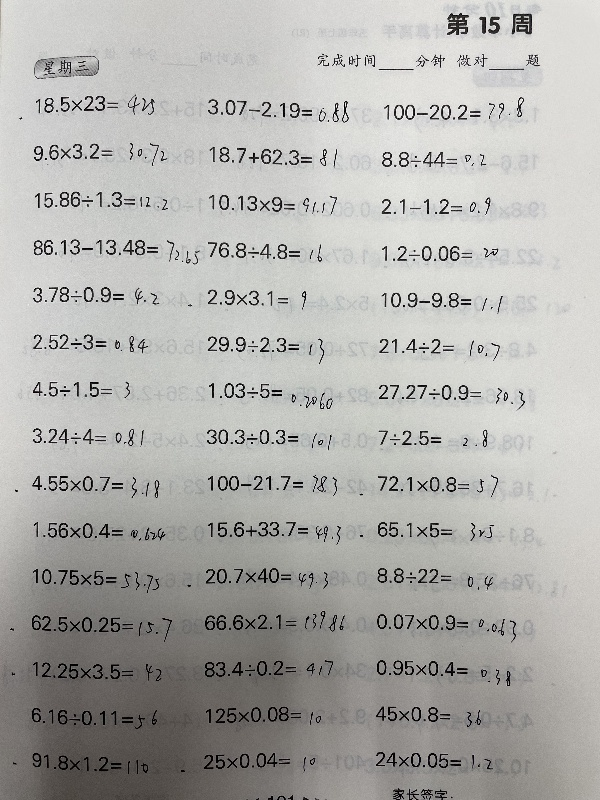equation: (28, 235, 203, 272), (372, 656, 518, 694), (372, 611, 523, 647), (28, 613, 177, 649), (193, 470, 352, 502), (197, 607, 350, 640), (206, 228, 328, 268), (30, 517, 170, 551), (29, 564, 162, 599), (25, 701, 161, 735), (28, 138, 168, 171), (202, 519, 348, 550), (374, 378, 528, 407), (377, 333, 503, 368), (203, 95, 352, 124), (9, 470, 162, 498), (203, 654, 336, 686), (28, 748, 153, 782), (373, 562, 496, 596), (379, 96, 528, 124), (202, 332, 327, 365), (202, 562, 333, 593), (30, 659, 168, 688), (374, 515, 500, 546), (374, 471, 502, 500), (198, 749, 326, 778), (373, 749, 501, 778), (204, 379, 336, 407), (30, 88, 157, 117), (203, 190, 339, 217), (204, 142, 340, 169), (29, 186, 170, 212), (201, 424, 334, 450), (377, 286, 505, 313), (28, 281, 161, 306), (201, 706, 328, 732), (27, 421, 146, 448), (375, 425, 492, 452), (28, 329, 150, 354), (377, 193, 494, 218), (378, 241, 502, 264), (375, 704, 484, 730), (202, 285, 309, 311), (28, 377, 134, 402), (377, 147, 489, 170)
